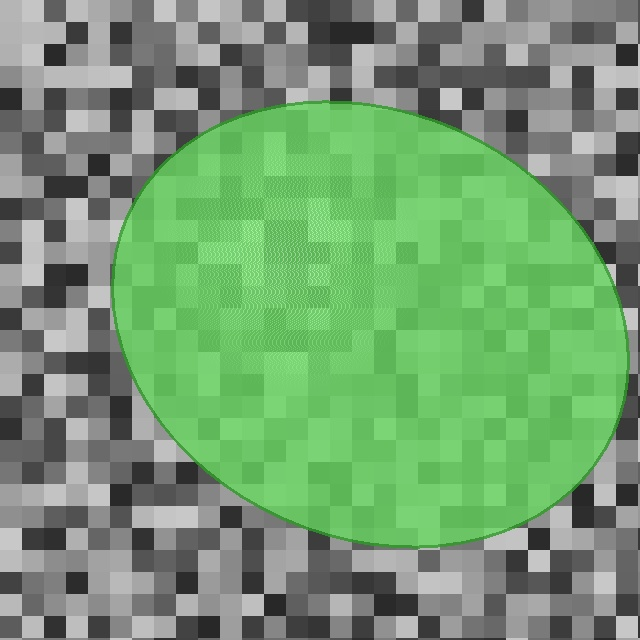lens: (113, 101, 627, 547)
